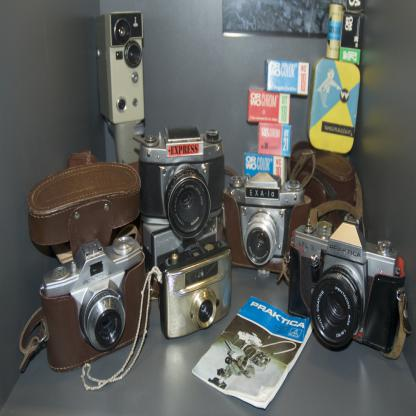Camera: (290, 209, 395, 364), (42, 234, 148, 374), (97, 10, 154, 181), (137, 130, 224, 240), (227, 170, 303, 271), (160, 235, 232, 338), (146, 205, 223, 301), (292, 148, 365, 234)
